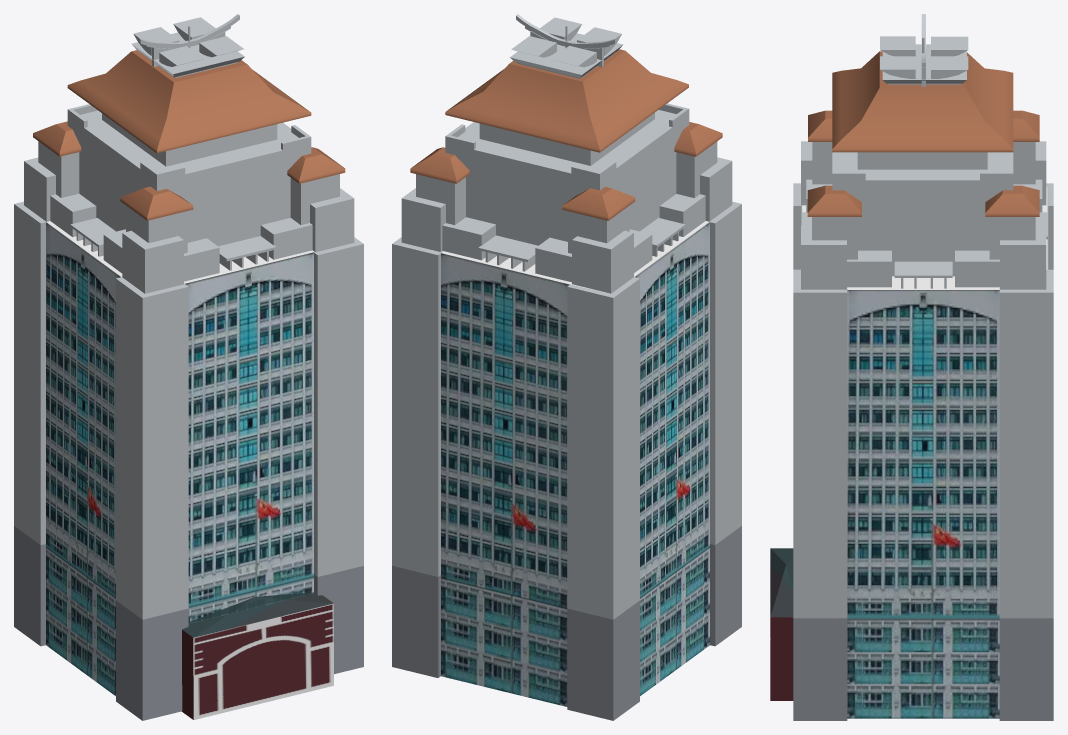
The model's file is 颂恩楼2.fbx.
3 renders of one model, left to right at view 1: azimuth 30°, elevation 25°; view 2: azimuth 150°, elevation 25°; view 3: azimuth 270°, elevation 25°, orthographic.
Parts seen in each view (by area): view 1: pasted__pasted__pCube1, pasted__pCube39, pasted__pCube44, pCube18, pasted__pCube46, pCube20, pCube42, pCube5, pasted__pCube43, pCube19, pCube2, pCube22 (+18 smaller); view 2: pasted__pasted__pCube1, pasted__pCube46, pasted__pCube45, pCube18, pasted__pCube39, pCube20, pCube4, pCube19, pCube3, pCube33 (×2), pCube23, pCube5 (+15 smaller); view 3: pasted__pasted__pCube1, pasted__pCube44, pasted__pCube45, pCube20, pCube18, pCube42, pCube3, pCube2, pCube19, pasted__pCube43, pCube7, pCube6 (+19 smaller).
Boxes of the visible parts, x1,y1,x2,y2 form: pasted__pasted__pCube1: [23, 204, 354, 695]; pasted__pCube39: [116, 277, 188, 720]; pasted__pCube44: [312, 237, 363, 674]; pCube18: [74, 110, 298, 246]; pasted__pCube46: [14, 201, 46, 646]; pCube20: [67, 50, 311, 153]; pCube42: [182, 594, 333, 719]; pCube5: [122, 230, 183, 293]; pasted__pCube43: [182, 592, 333, 637]; pCube19: [102, 113, 277, 166]; pCube2: [310, 188, 354, 252]; pCube22: [260, 218, 312, 259]; pasted__pasted__pCube1: [441, 221, 709, 706]; pasted__pCube46: [567, 277, 639, 720]; pasted__pCube45: [392, 237, 443, 677]; pCube18: [458, 110, 686, 245]; pasted__pCube39: [706, 201, 741, 646]; pCube20: [445, 49, 688, 152]; pCube4: [572, 230, 633, 293]; pCube19: [479, 112, 654, 165]; pCube3: [401, 188, 445, 251]; pCube33 (×2): [478, 218, 685, 262]; pCube23: [442, 217, 495, 260]; pCube5: [700, 157, 732, 221]; pasted__pasted__pCube1: [801, 185, 1048, 718]; pasted__pCube44: [793, 269, 847, 720]; pasted__pCube45: [999, 269, 1053, 720]; pCube20: [832, 51, 1013, 152]; pCube18: [832, 152, 1013, 276]; pCube42: [770, 567, 793, 700]; pCube3: [1000, 225, 1046, 289]; pCube2: [801, 225, 846, 289]; pCube19: [857, 152, 987, 169]; pasted__pCube43: [770, 548, 793, 617]; pCube7: [955, 250, 999, 287]; pCube6: [847, 250, 891, 287].
Bounding box in the file's own units: 12.28 × 32.93 × 13.45.
